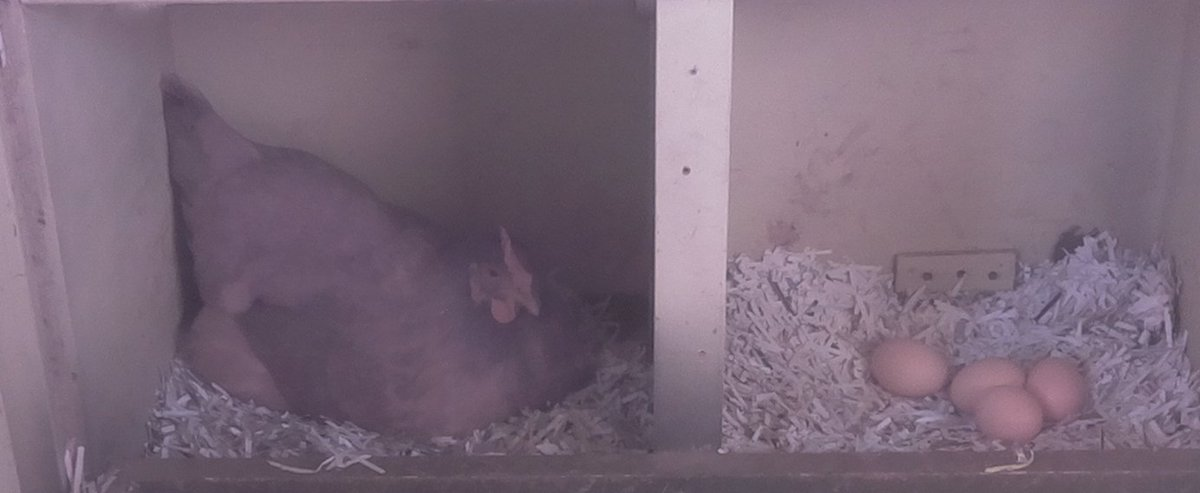egg: (865, 330, 953, 405), (970, 382, 1046, 447), (1022, 350, 1088, 424), (943, 353, 1028, 407)
hen: (160, 75, 615, 438)
